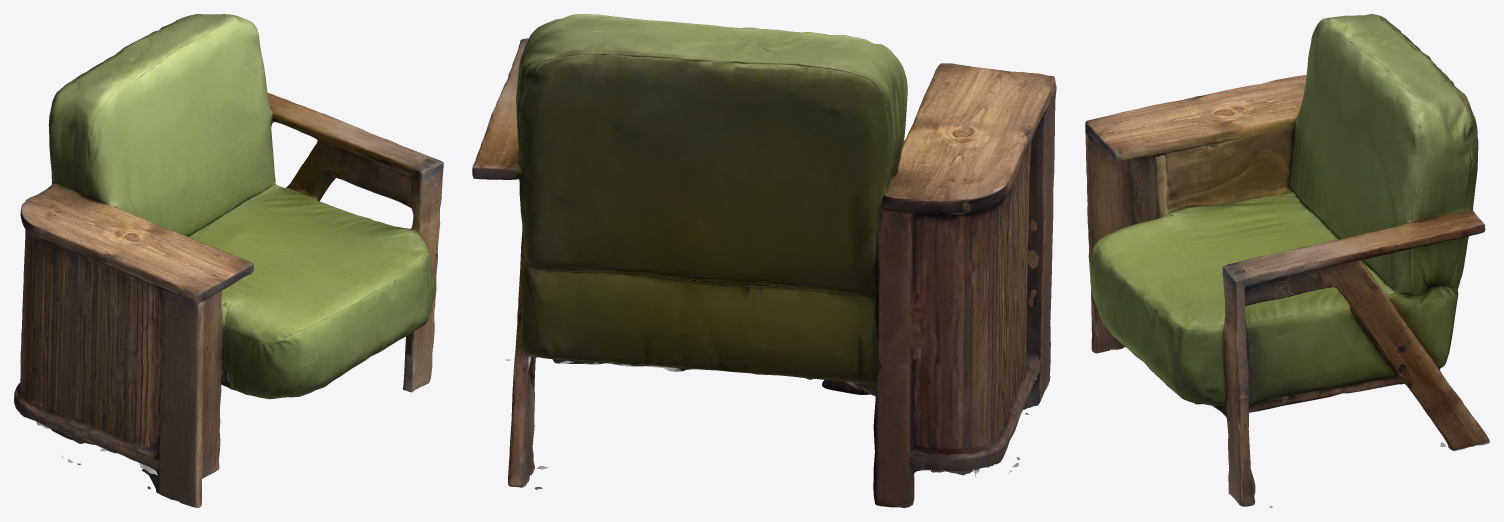
Rendered from Sitzplatz.glb.
3 views of the same model, side by side, from view 1: azimuth 30°, elevation 25°; view 2: azimuth 150°, elevation 25°; view 3: azimuth 270°, elevation 25° (orthographic). The views are drawn at different scales.
Visible parts, largest first — view 1: unnamed_n3d9; view 2: unnamed_n3d9; view 3: unnamed_n3d9.
Part boxes in pixels (x1=…): unnamed_n3d9: x1=14, y1=14, x2=443, y2=507; unnamed_n3d9: x1=472, y1=14, x2=1056, y2=507; unnamed_n3d9: x1=1085, y1=14, x2=1489, y2=507.
Bounding box in the file's own units: 1.15 × 0.9462 × 0.9964.
1 material, 1 textured.
